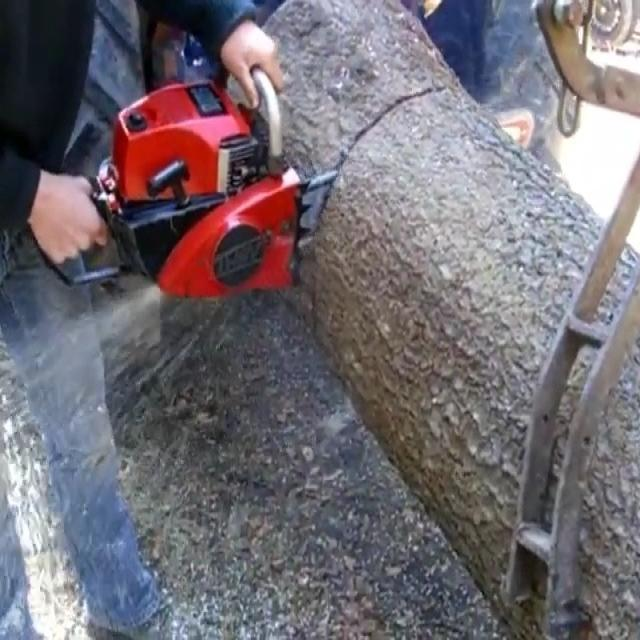Chainsaw: (22, 47, 552, 295)
